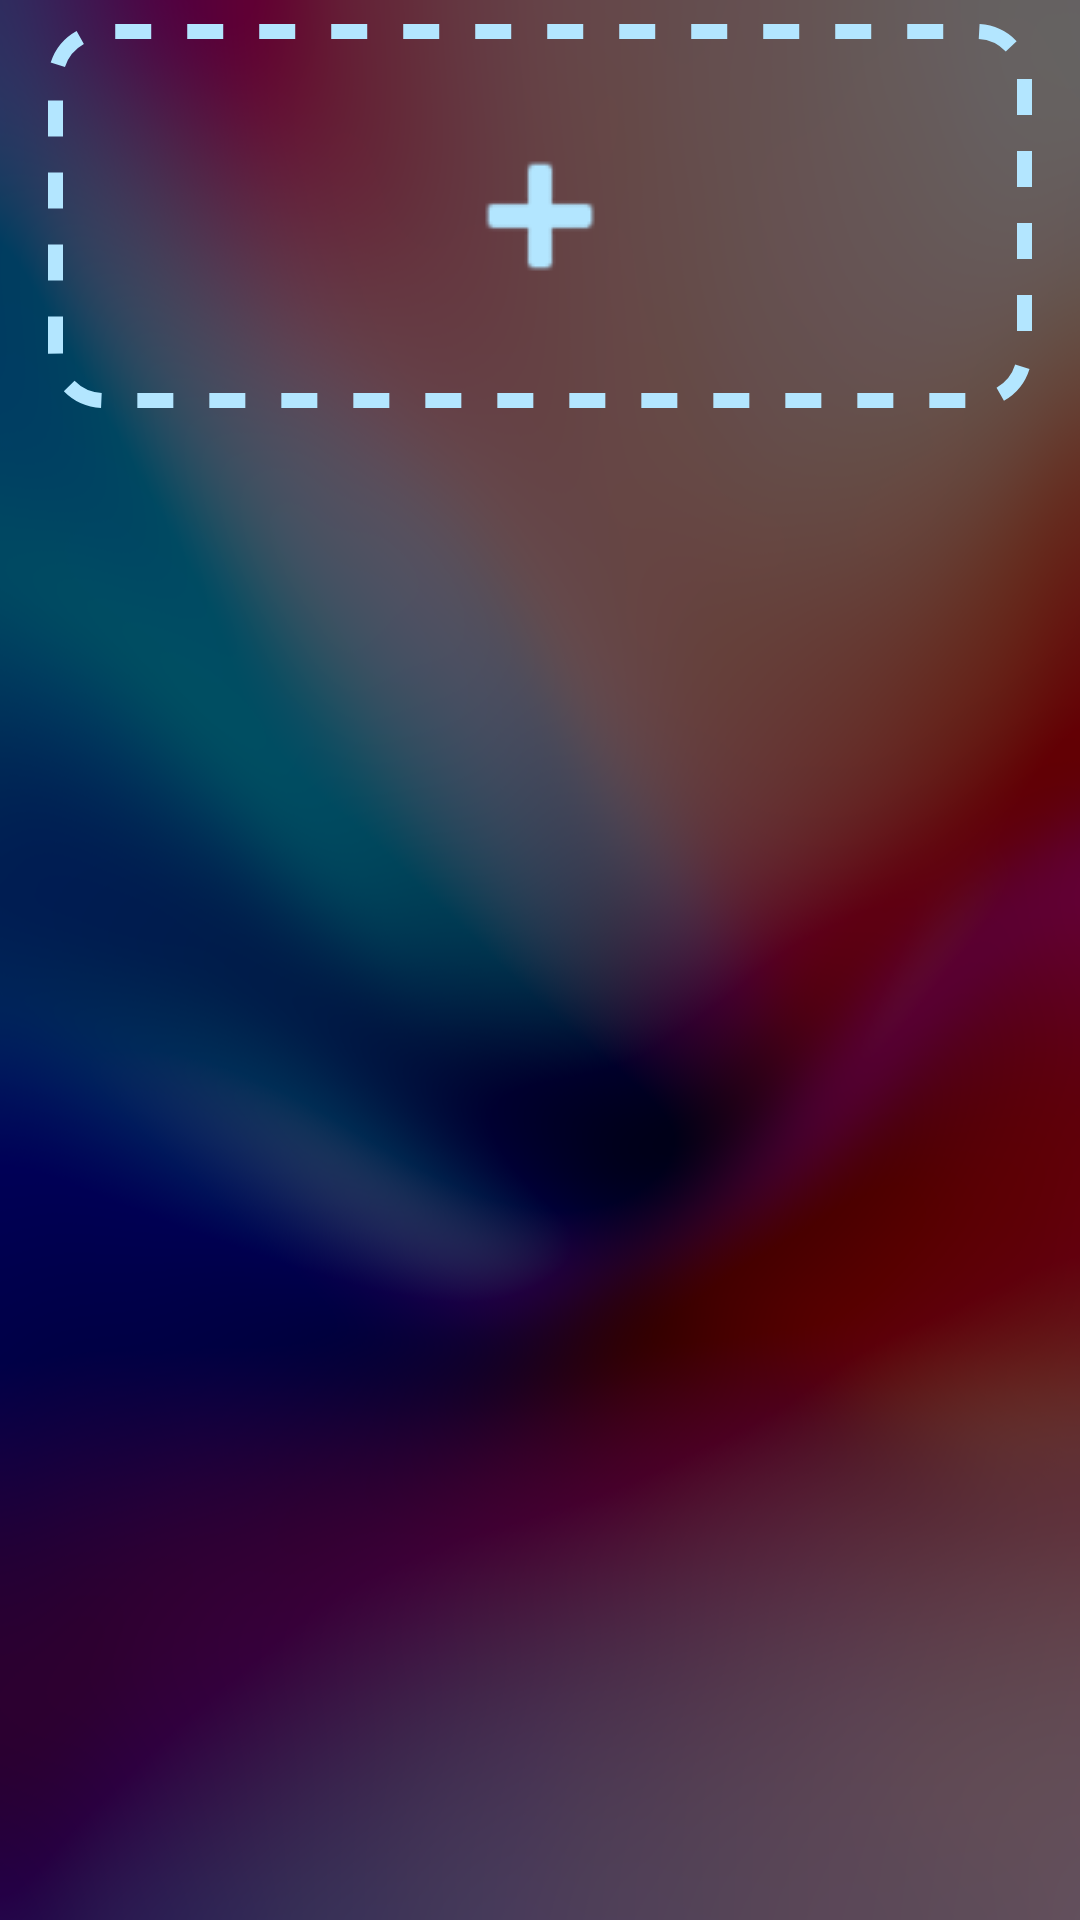

Point at icon controls on the screen. Image size 1080×1920, points as (x,y).
add: (540,216)
